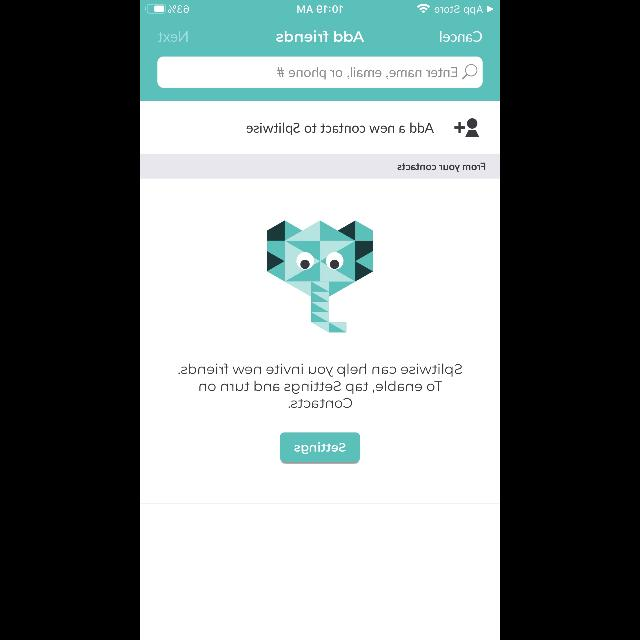icon: (455, 119, 479, 137), (462, 64, 478, 80)
image: (267, 220, 373, 332)
input: (158, 56, 482, 88)
text: (178, 364, 462, 408), (246, 122, 434, 136), (277, 66, 457, 80), (276, 30, 364, 42), (397, 162, 485, 172), (440, 30, 482, 42), (158, 32, 188, 42)
textbutton: (280, 432, 360, 463)
uppertaskbar: (140, 1, 500, 15)
